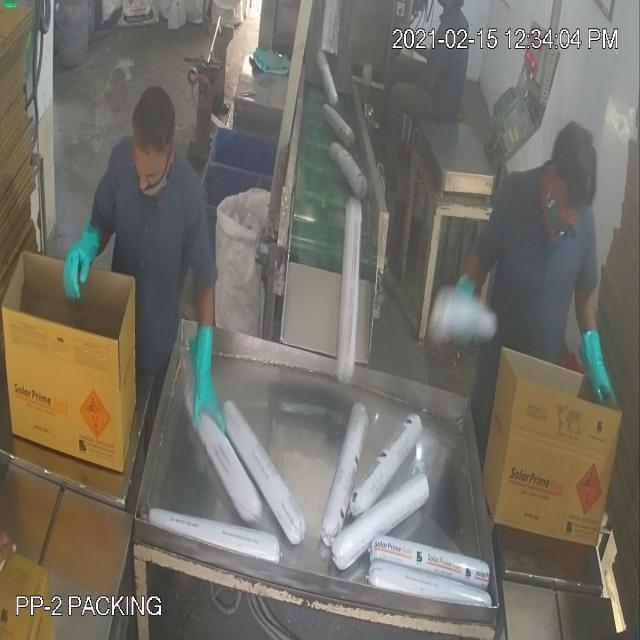Gloves: (42, 114, 602, 381)
